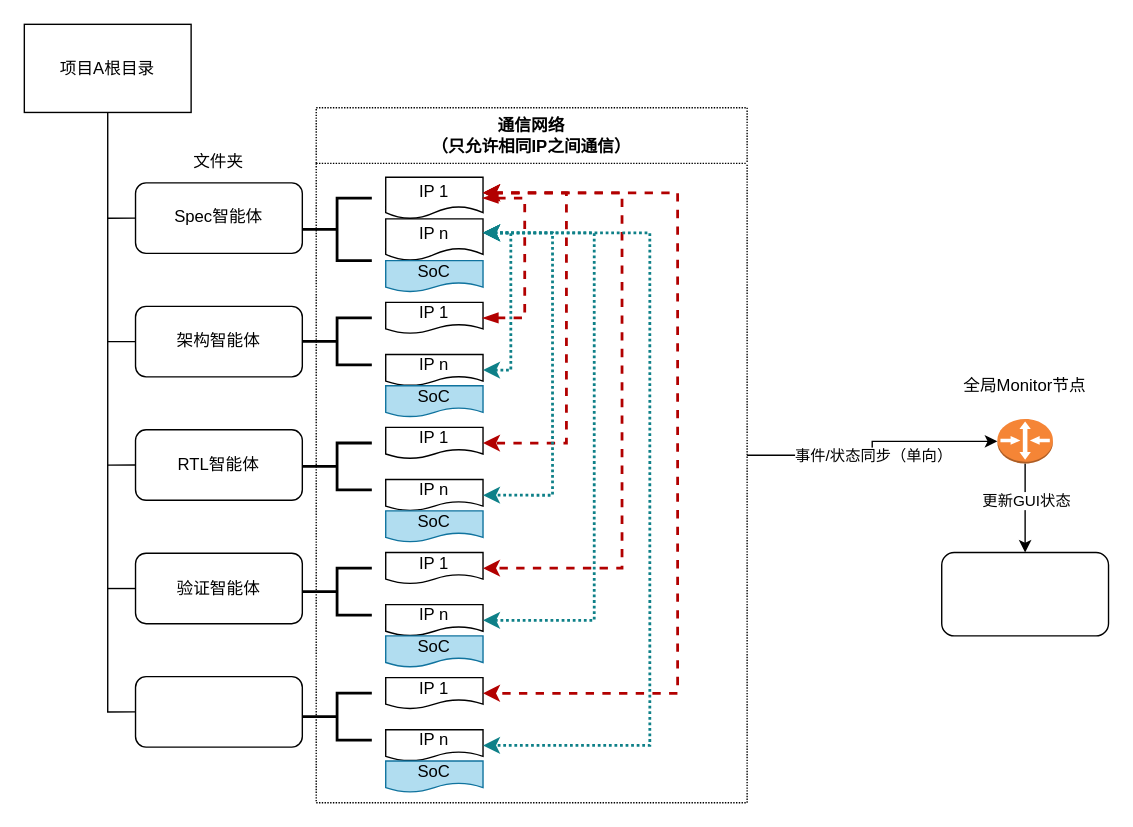
The diagram is 1133 pixels wide and 827 high, and some of its shapes have lost their labels. Each missing label, with the centre of its shape:
"GUI" goes at (x=1024, y=593).
"软件智能体" goes at (x=218, y=711).
